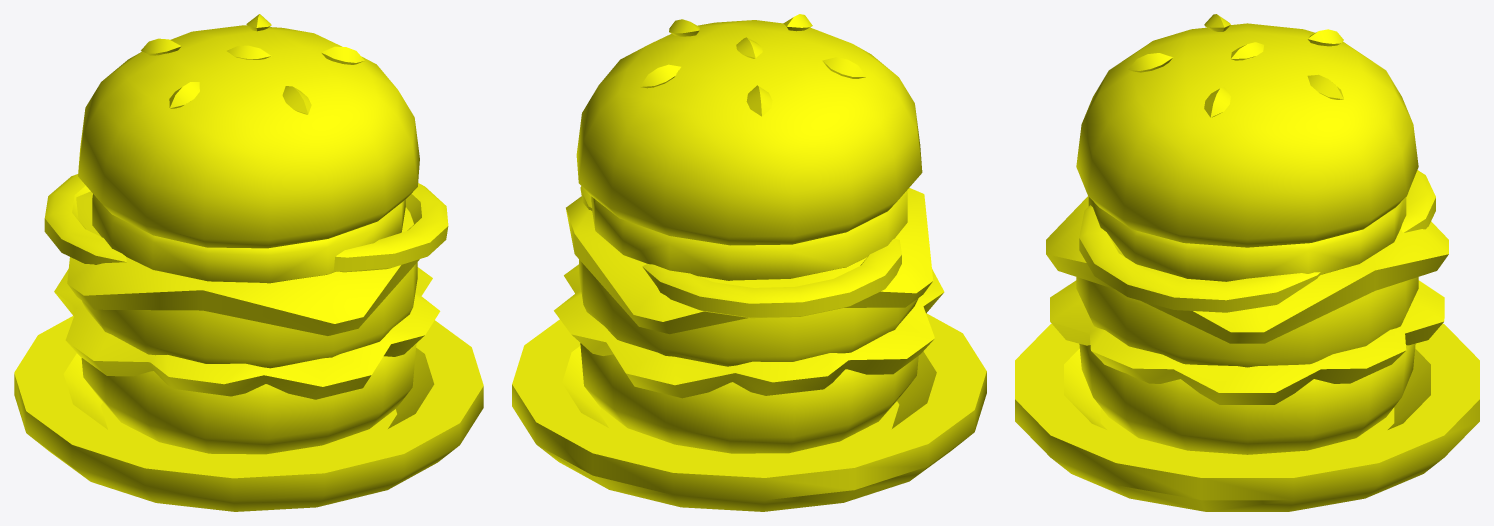
The model's file is food_burger.gltf.
The picture shows the model from 3 angles, left to right: view 1: azimuth 30°, elevation 25°; view 2: azimuth 150°, elevation 25°; view 3: azimuth 270°, elevation 25°; orthographic projection.
Visible parts, largest first — view 1: food_burger; view 2: food_burger; view 3: food_burger.
Part boxes in pixels (<box>): food_burger: <box>14,14,483,511</box>; food_burger: <box>512,14,986,511</box>; food_burger: <box>1015,14,1479,511</box>.
Size of the model in its own units: 0.95 by 0.8572 by 0.95.
1 material, 1 textured.
